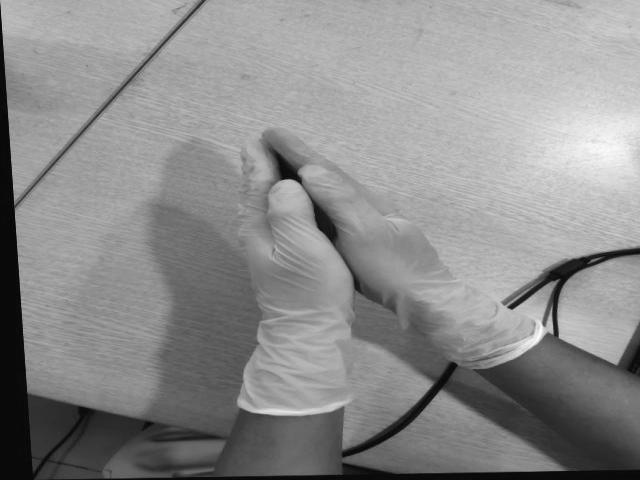gloved: (268, 124, 468, 288), (236, 135, 356, 334)
